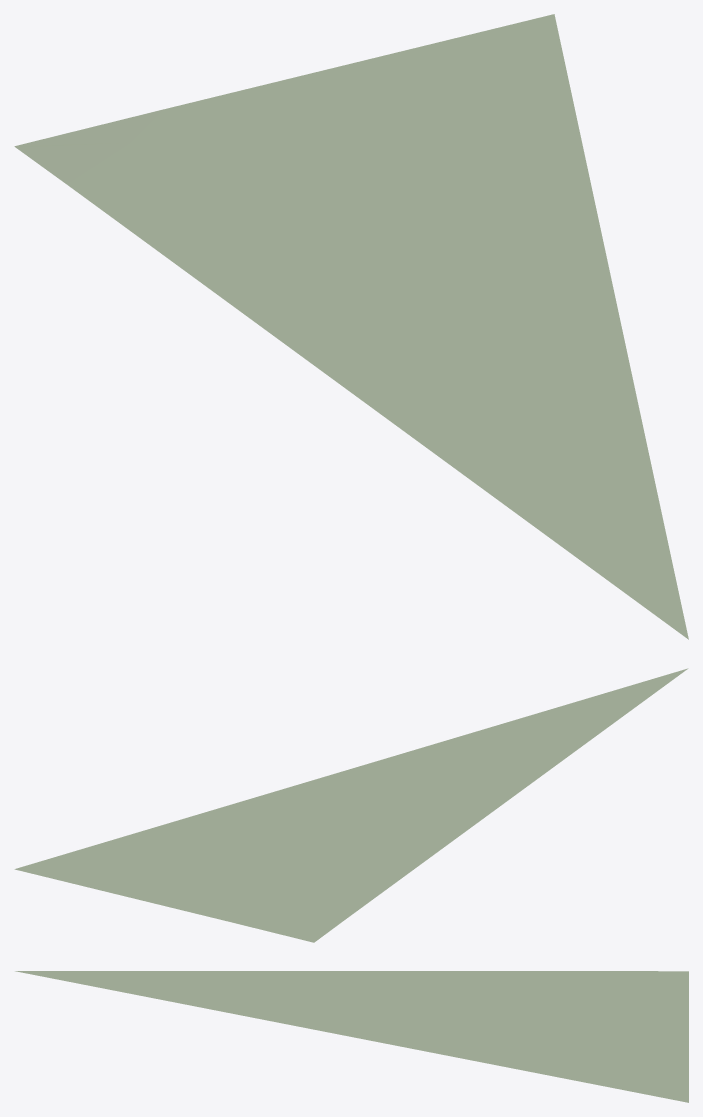
File: SM_MPRR_Terrain_4_-1.fbx
3 renders of one model, top to bottom at view 1: azimuth 30°, elevation 25°; view 2: azimuth 150°, elevation 25°; view 3: azimuth 270°, elevation 25°, orthographic. The views are drawn at different scales.
Parts seen in each view (by area): view 1: SM_MPRR_Terrain_4_-1; view 2: SM_MPRR_Terrain_4_-1; view 3: SM_MPRR_Terrain_4_-1.
Boxes of the visible parts, x1=… form: SM_MPRR_Terrain_4_-1: x1=14, y1=14, x2=688, y2=639; SM_MPRR_Terrain_4_-1: x1=14, y1=668, x2=688, y2=942; SM_MPRR_Terrain_4_-1: x1=15, y1=971, x2=688, y2=1102.
Size of the model in its own units: 3682 by 7964 by 3.14.
